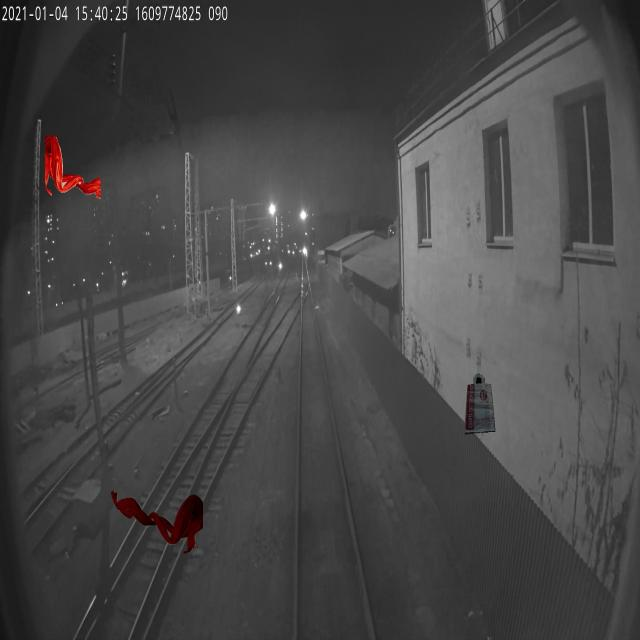balloon: (109, 489, 203, 554)
floating object: (44, 135, 100, 199)
plastic bag: (464, 371, 495, 435)
